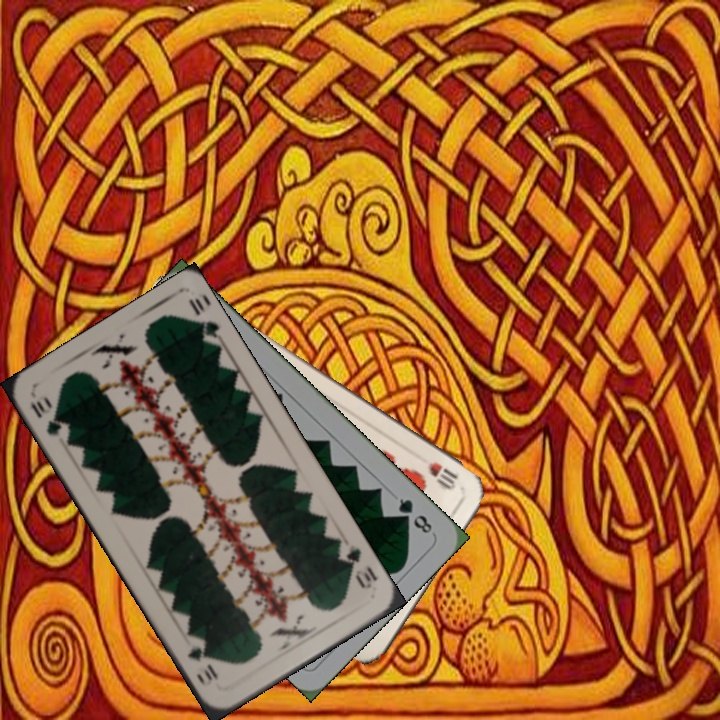G10: (334, 540, 380, 592), (26, 396, 65, 439)
G8: (393, 494, 435, 537)
H10: (424, 457, 461, 492)
